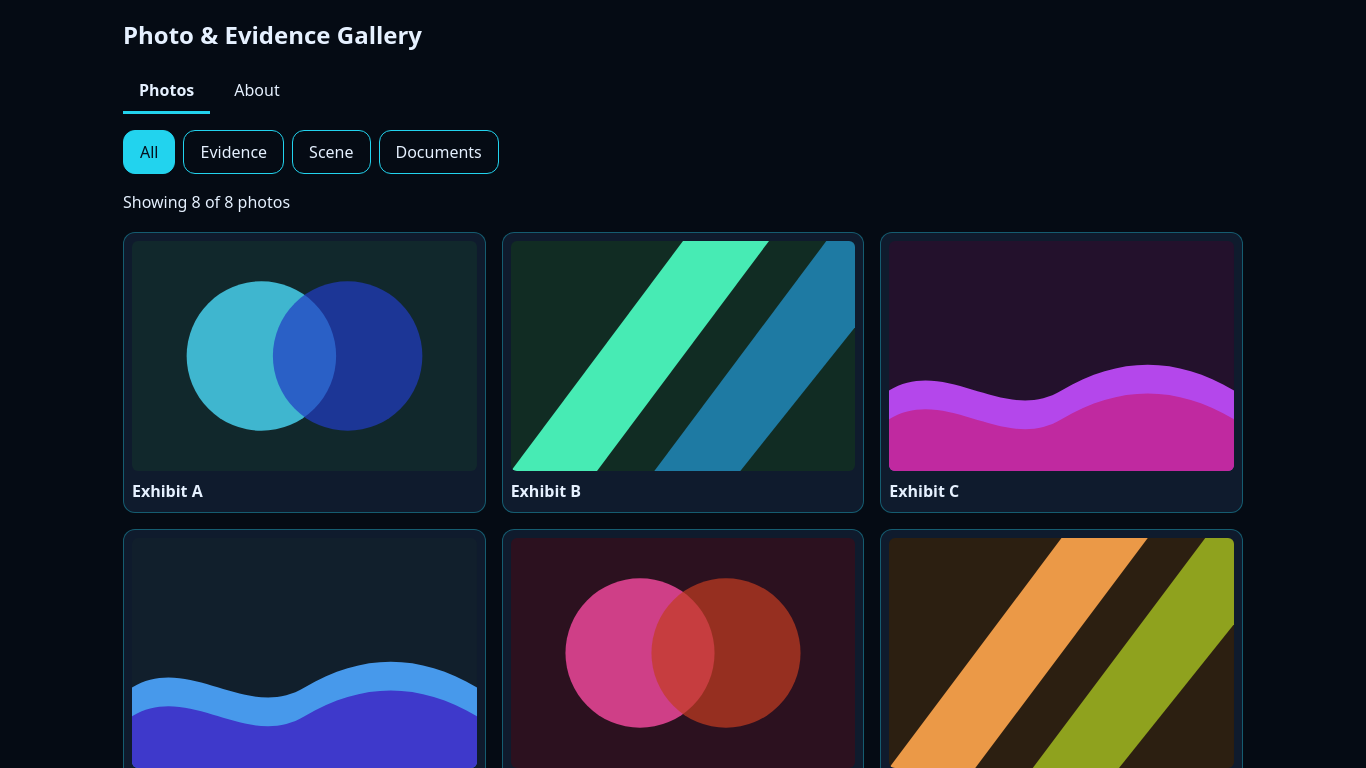
PhotoGalleryLayout category filter (URL driven) › writes the category to the URL when a filter link is clicked
Click the link "Scene".
click(331, 152)  # box [292,130,370,174]
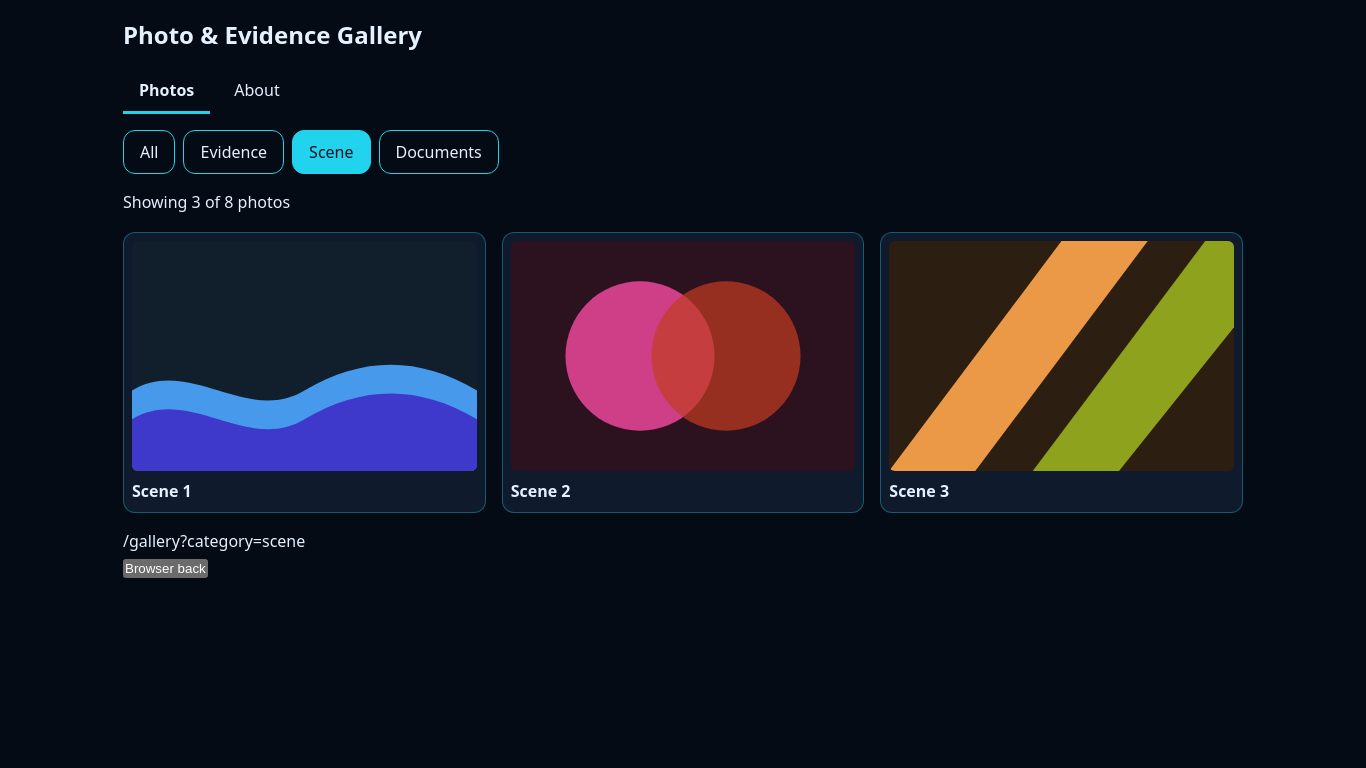
Now the text with test id "url" reads "/gallery?category=scene", box [123,530,305,552]
